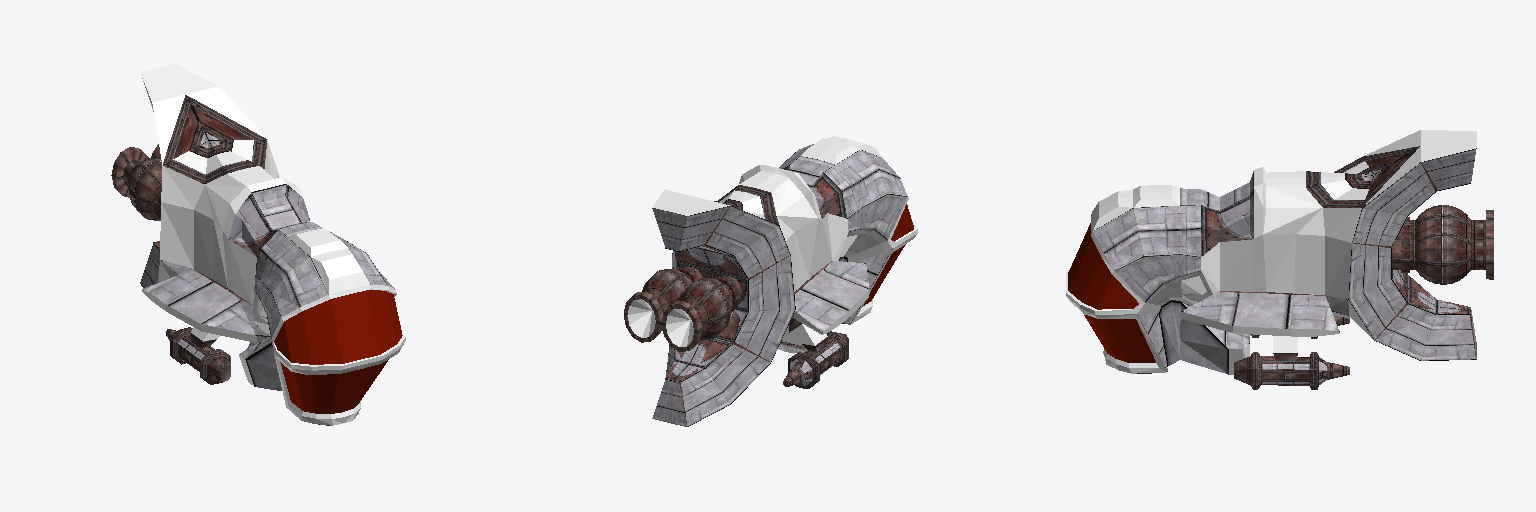
3 renders of one model, left to right at view 1: azimuth 30°, elevation 25°; view 2: azimuth 150°, elevation 25°; view 3: azimuth 270°, elevation 25°, orthographic.
Parts seen in each view (by area): view 1: pre-kirkV3; view 2: pre-kirkV3; view 3: pre-kirkV3.
Boxes of the visible parts, x1=… form: pre-kirkV3: x1=111, y1=64, x2=405, y2=425; pre-kirkV3: x1=624, y1=136, x2=917, y2=426; pre-kirkV3: x1=1066, y1=130, x2=1493, y2=389.
Size of the model in its own units: 27.75 by 36.29 by 60.71.
Materials: 8 (3 with a texture image).